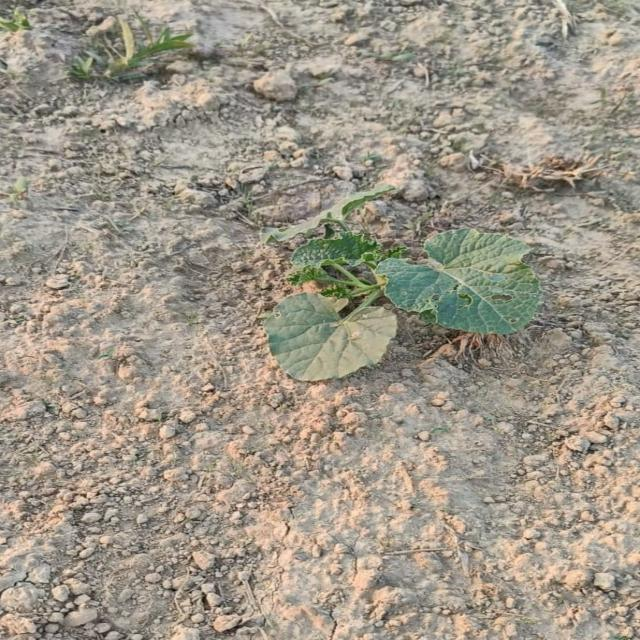plant: (264, 186, 541, 380)
